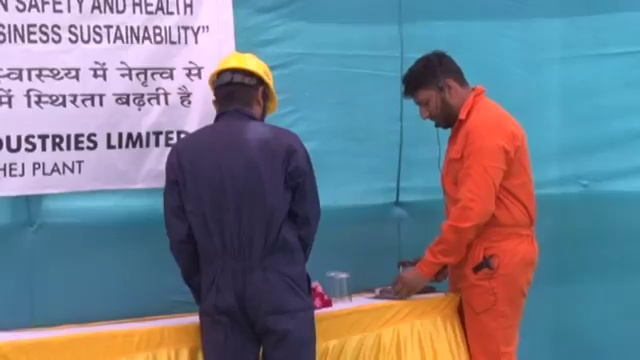helmet: (207, 53, 279, 112)
helmet_off: (401, 50, 470, 131)
helmet_on: (206, 53, 280, 124)
person: (160, 52, 322, 360), (394, 50, 538, 360)
